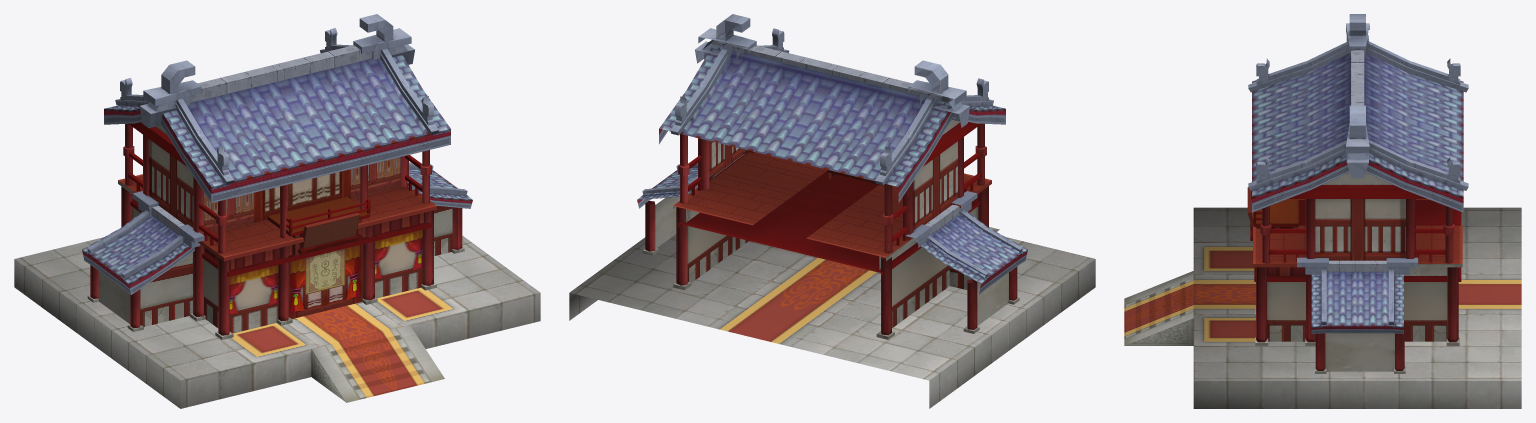
The model's file is 3k_map_restuarant.FBX.
3 renders of one model, left to right at view 1: azimuth 30°, elevation 25°; view 2: azimuth 150°, elevation 25°; view 3: azimuth 270°, elevation 25°, orthographic.
Parts seen in each view (by area): view 1: 3k_map_restuarant, 3k_map_pedestal00; view 2: 3k_map_restuarant, 3k_map_pedestal00; view 3: 3k_map_restuarant, 3k_map_pedestal00.
Part boxes in pixels (x1=…): 3k_map_restuarant: x1=82, y1=14, x2=472, y2=339; 3k_map_pedestal00: x1=14, y1=236, x2=540, y2=408; 3k_map_restuarant: x1=637, y1=14, x2=1027, y2=339; 3k_map_pedestal00: x1=569, y1=227, x2=1095, y2=408; 3k_map_restuarant: x1=1247, y1=14, x2=1468, y2=373; 3k_map_pedestal00: x1=1124, y1=207, x2=1521, y2=408.
Bounding box in the file's own units: 2364 × 1642 × 2291.
